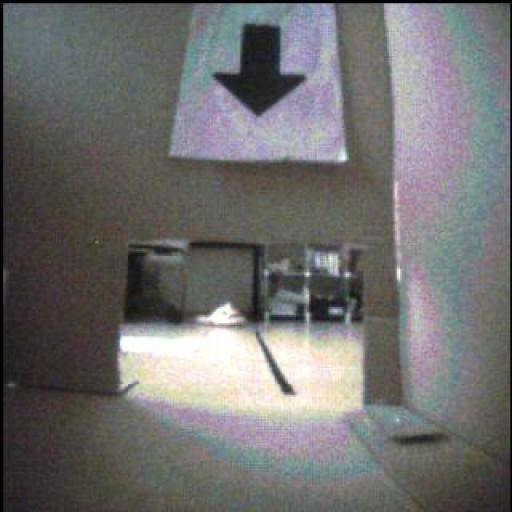arrow: (216, 25, 307, 116)
